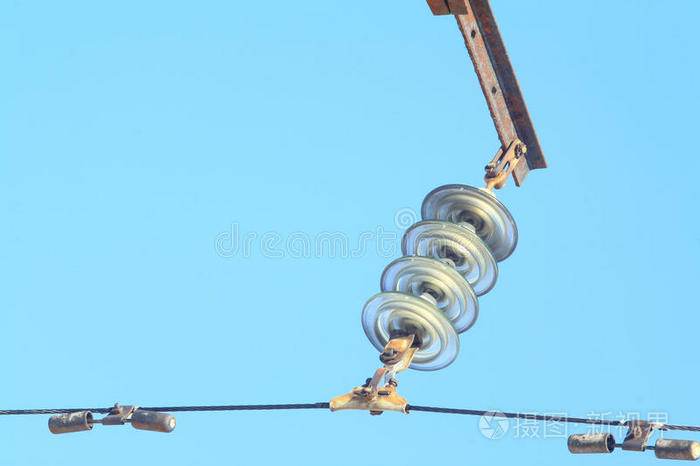insulator: (361, 181, 516, 375)
